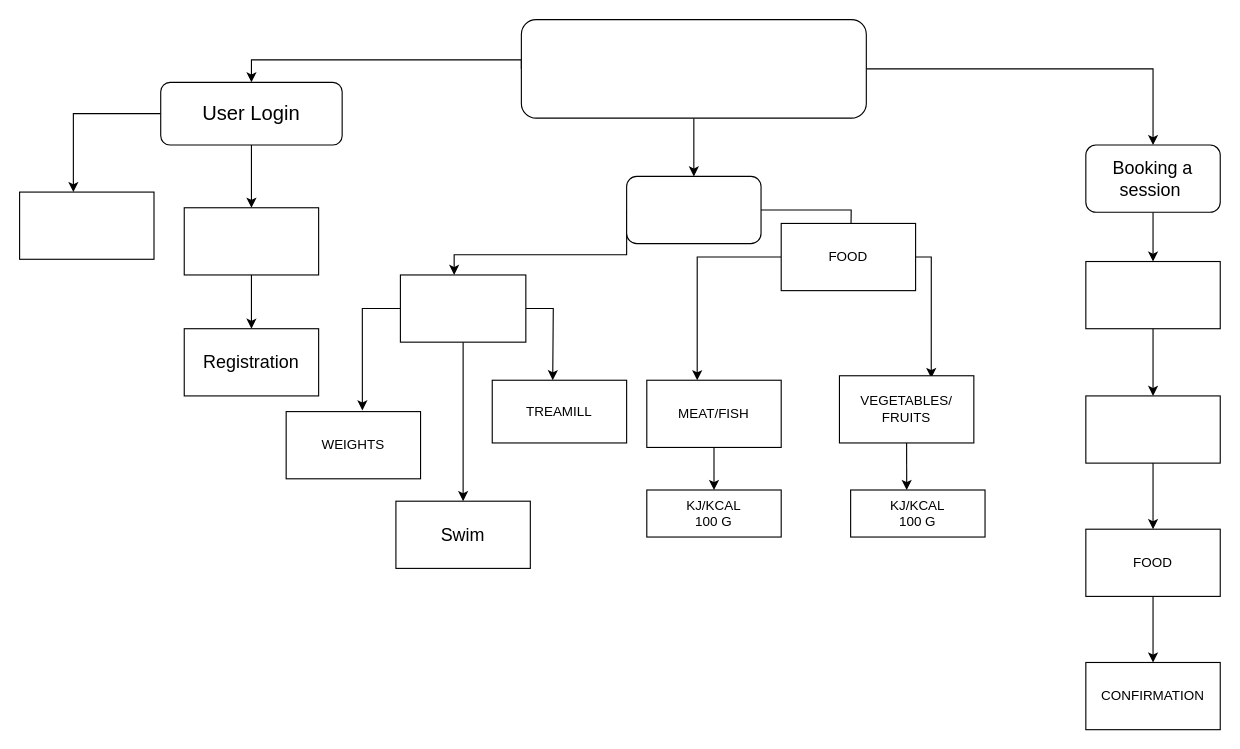
Image size: 1240x749. Some labels were removed from this diagram. The shapes that lost their labels are listed below. From the top down, each one's centre as x and y in pixels, then its label:
At [693,68]: "Booking Sytem".
At [86,225]: "Login In".
At [693,209]: "Menu".
At [251,241]: "New Member".
At [462,308]: "CLASSES".
At [1152,294]: "DATE/TIME".
At [1152,429]: "CLASS".
